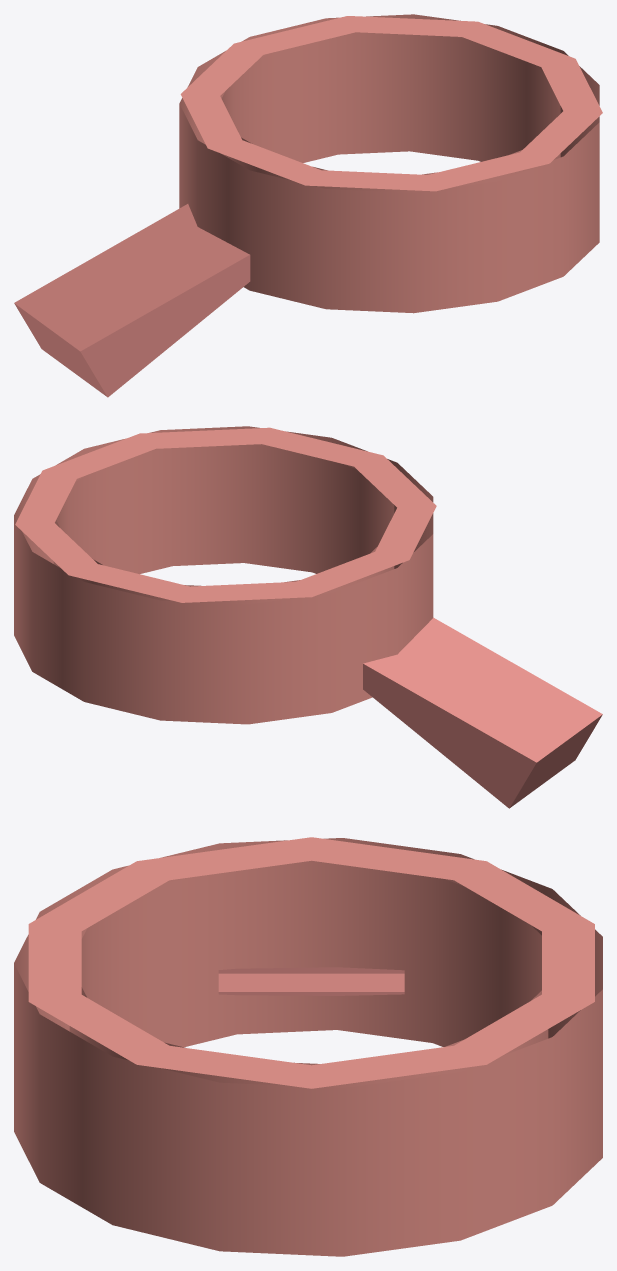
The model's file is accessory_scarf.glb.
The picture shows the model from 3 angles, top to bottom: view 1: azimuth 30°, elevation 25°; view 2: azimuth 150°, elevation 25°; view 3: azimuth 270°, elevation 25°; orthographic projection. The views are drawn at different scales.
Parts seen in each view (by area): view 1: Object3D; view 2: Object3D; view 3: Object3D.
Boxes of the visible parts, x1,y1,x2,y2 form: Object3D: (14, 14, 602, 397); Object3D: (14, 426, 602, 808); Object3D: (14, 837, 602, 1256).
Size of the model in its own units: 2.07 by 0.7195 by 1.42.
